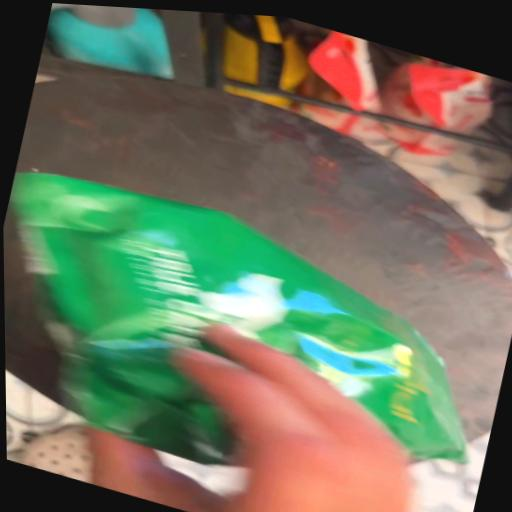cafe_xay: (11, 173, 465, 465)
